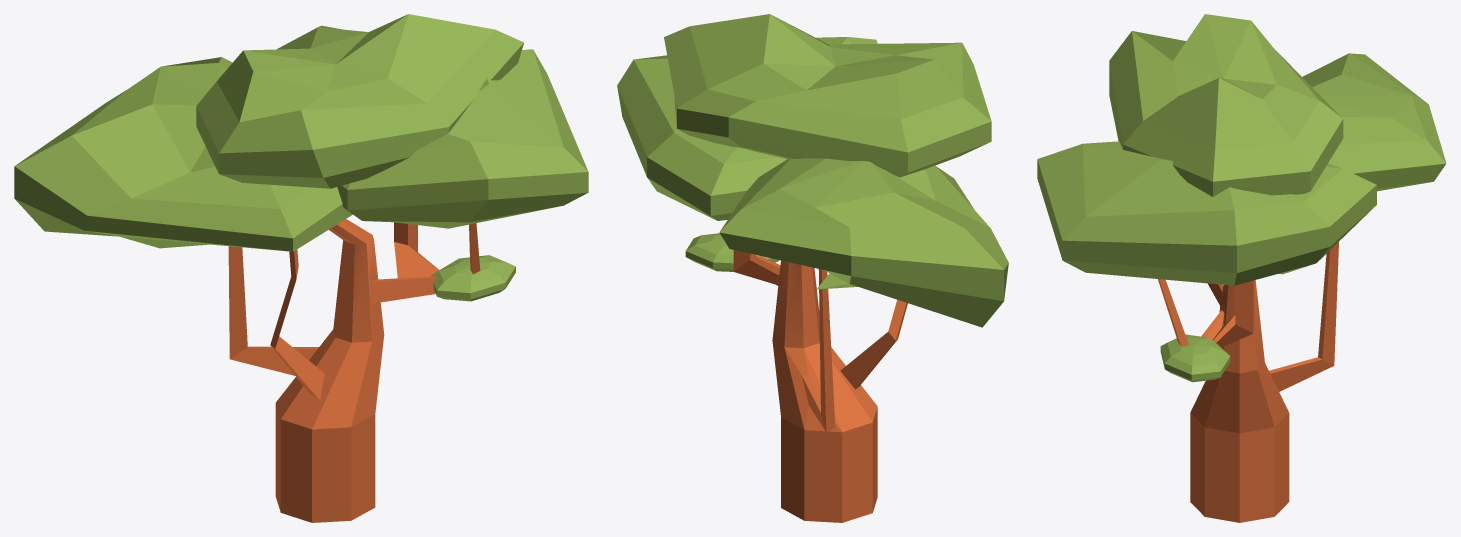
The model's file is tree1Organic.fbx.
3 renders of one model, left to right at view 1: azimuth 30°, elevation 25°; view 2: azimuth 150°, elevation 25°; view 3: azimuth 270°, elevation 25°, orthographic. The views are drawn at different scales.
Visible parts, largest first — view 1: PrototypeLevelConcept:pSphere14, PrototypeLevelConcept:pSphere12, PrototypeLevelConcept:pCylinder6, PrototypeLevelConcept:pSphere13, PrototypeLevelConcept:pSphere15; view 2: PrototypeLevelConcept:pSphere14, PrototypeLevelConcept:pSphere12, PrototypeLevelConcept:pCylinder6, PrototypeLevelConcept:pSphere13, PrototypeLevelConcept:pSphere15; view 3: PrototypeLevelConcept:pSphere13, PrototypeLevelConcept:pSphere14, PrototypeLevelConcept:pCylinder6, PrototypeLevelConcept:pSphere12, PrototypeLevelConcept:pSphere15.
Part boxes in pixels (<box>): PrototypeLevelConcept:pSphere14: <box>196,14,523,188</box>; PrototypeLevelConcept:pSphere12: <box>14,57,352,251</box>; PrototypeLevelConcept:pCylinder6: <box>228,219,480,522</box>; PrototypeLevelConcept:pSphere13: <box>337,49,588,228</box>; PrototypeLevelConcept:pSphere15: <box>430,255,515,301</box>; PrototypeLevelConcept:pSphere14: <box>664,14,991,177</box>; PrototypeLevelConcept:pSphere12: <box>719,158,1008,327</box>; PrototypeLevelConcept:pCylinder6: <box>733,250,907,522</box>; PrototypeLevelConcept:pSphere13: <box>617,37,877,220</box>; PrototypeLevelConcept:pSphere15: <box>685,233,779,271</box>; PrototypeLevelConcept:pSphere13: <box>1037,141,1376,285</box>; PrototypeLevelConcept:pSphere14: <box>1109,14,1343,196</box>; PrototypeLevelConcept:pCylinder6: <box>1158,242,1338,522</box>; PrototypeLevelConcept:pSphere12: <box>1302,53,1446,191</box>; PrototypeLevelConcept:pSphere15: <box>1160,334,1230,382</box>.
Bounding box in the file's own units: 254 × 249 × 202.
